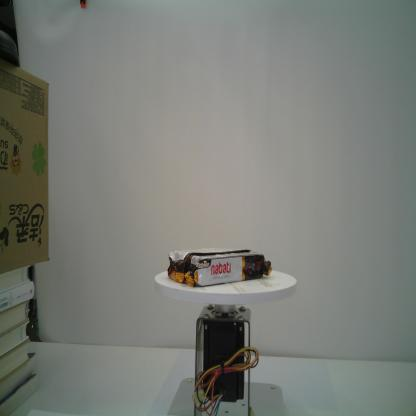Dessert: (168, 246, 272, 286)
